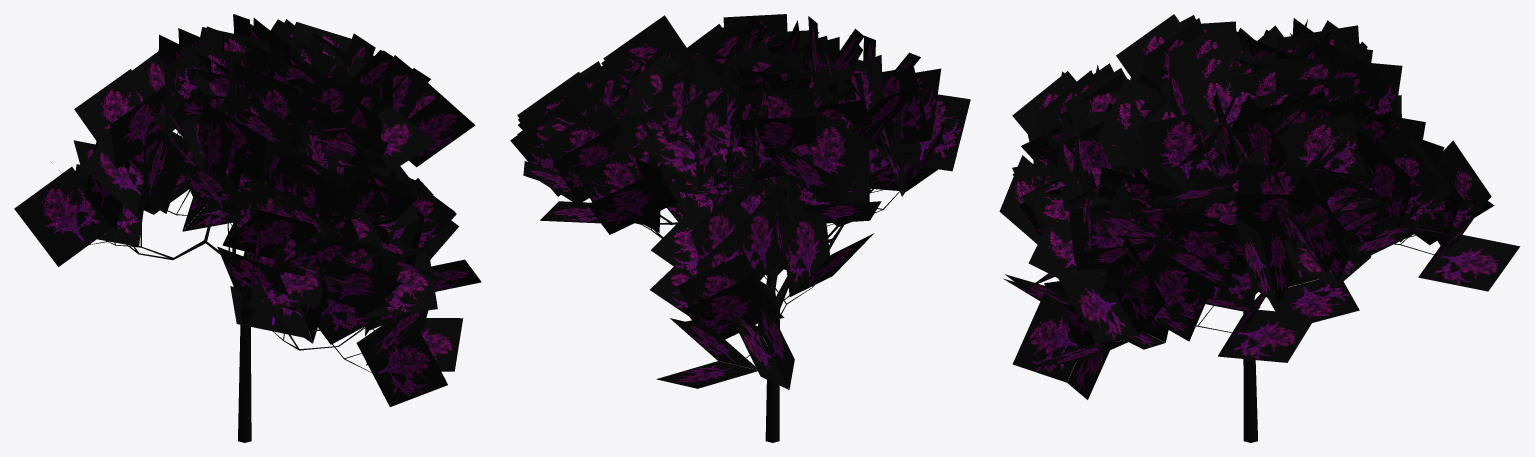
Rendered from tree_0.glb.
The picture shows the model from 3 angles, left to right: view 1: azimuth 30°, elevation 25°; view 2: azimuth 150°, elevation 25°; view 3: azimuth 270°, elevation 25°; orthographic projection. The views are drawn at different scales.
Bounding box in the file's own units: 7.51 × 7.68 × 8.8.
2 materials, 1 textured.
